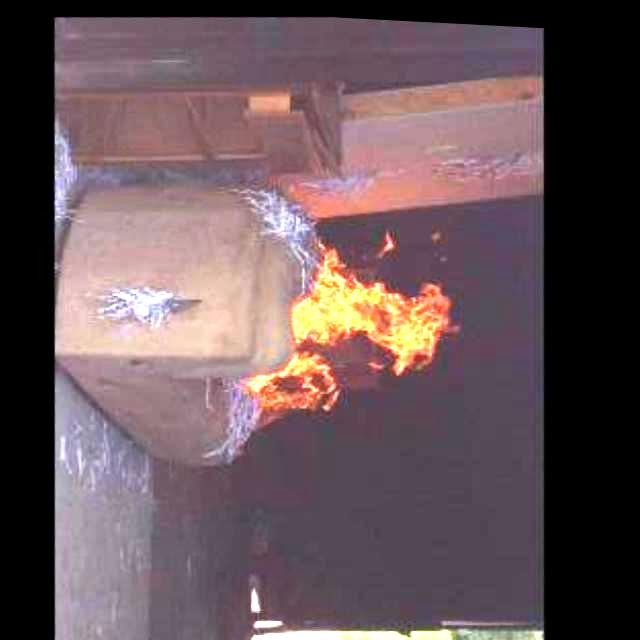fire: (286, 228, 474, 372), (246, 342, 358, 432)
